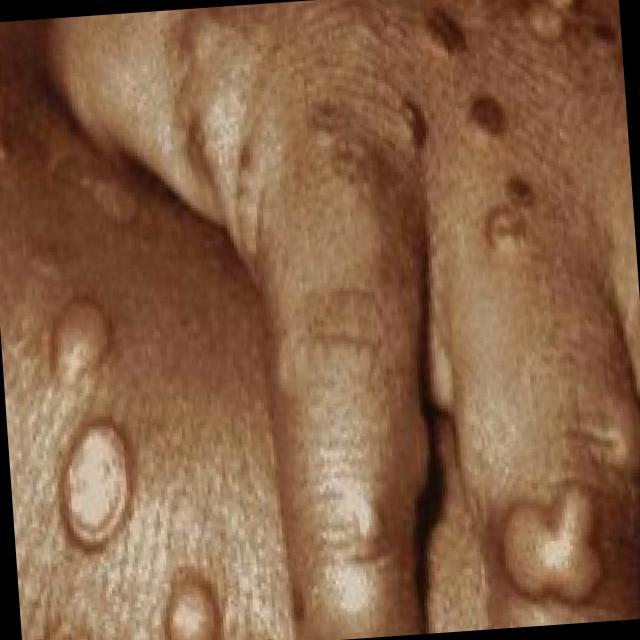Eczema: (289, 0, 613, 611), (40, 295, 227, 640)
